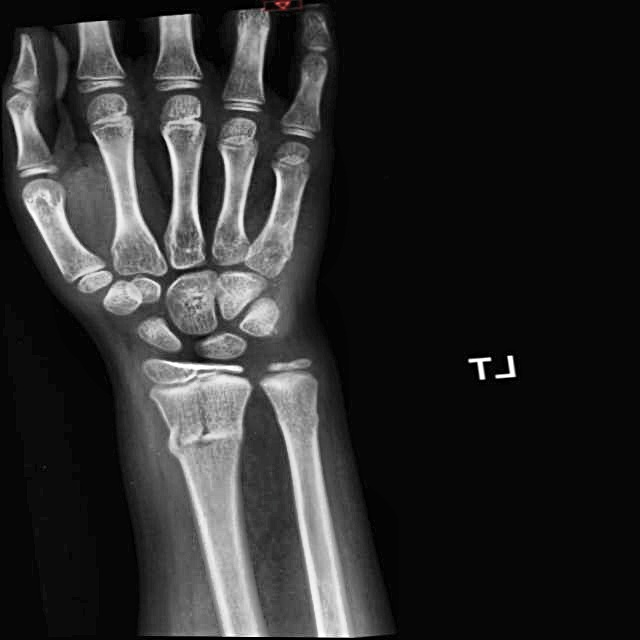Linear: (166, 389, 244, 482)
